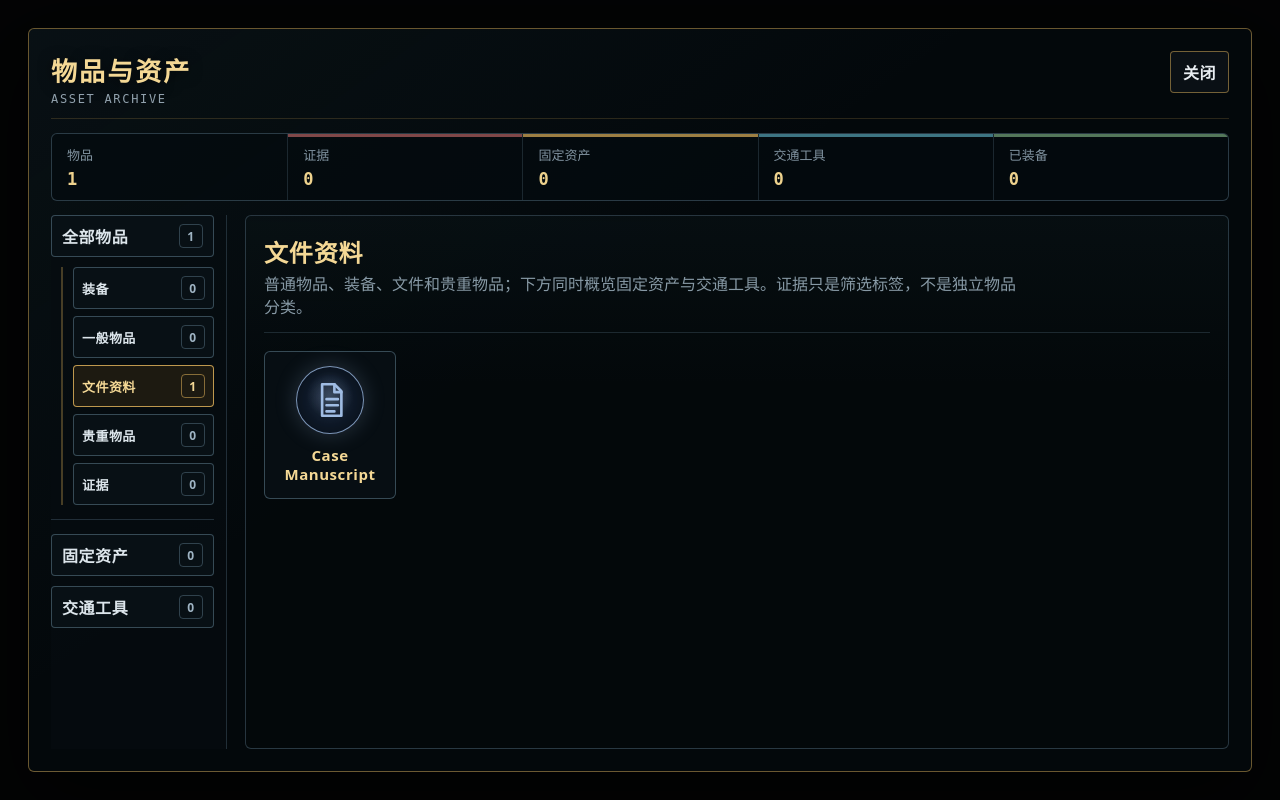
AssetArchiveModal › removes the reserved image panel from ordinary item details
Click the button "Case Manuscript" at (330, 425), box 264,351 -> 396,499
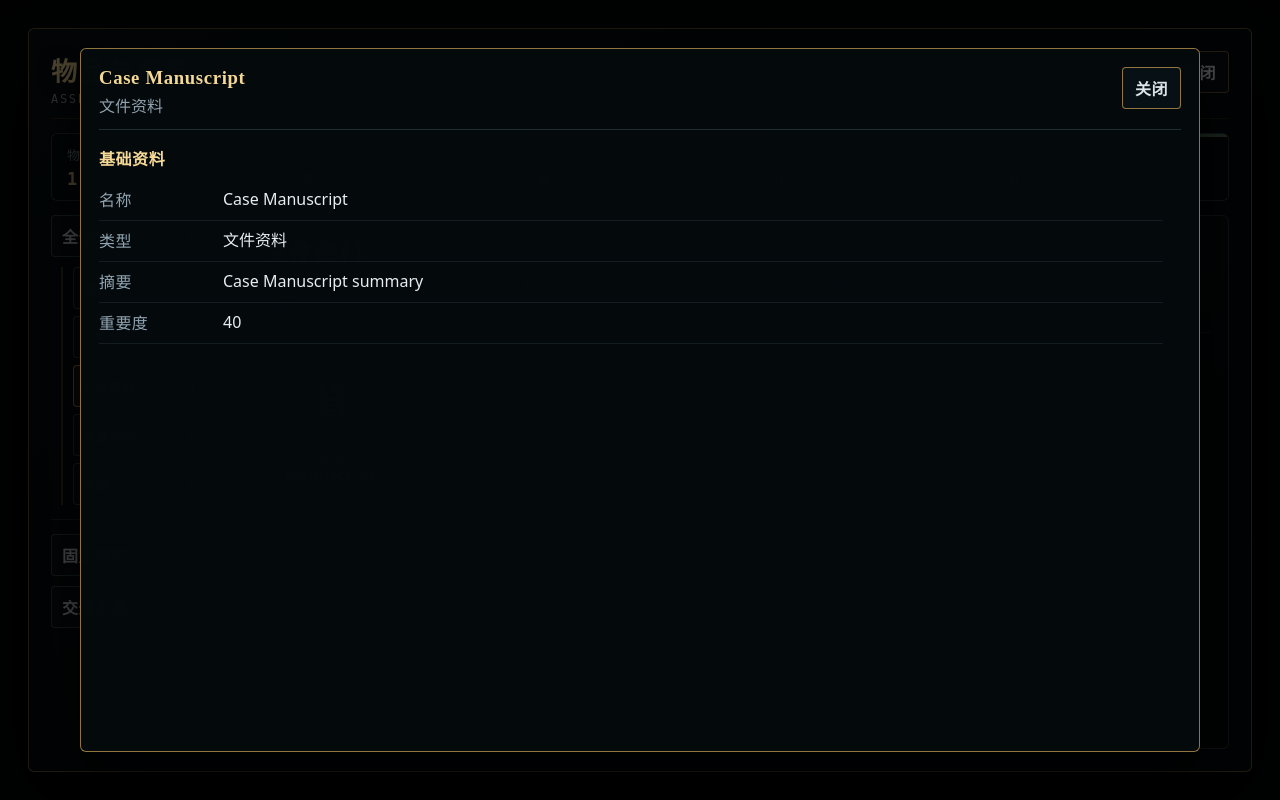
Expected: the element with class "asset-detail-layout--plain" is shown, 99,151 -> 1163,344
Expected: the text "Case Manuscript summary" is shown, 223,270 -> 423,292
